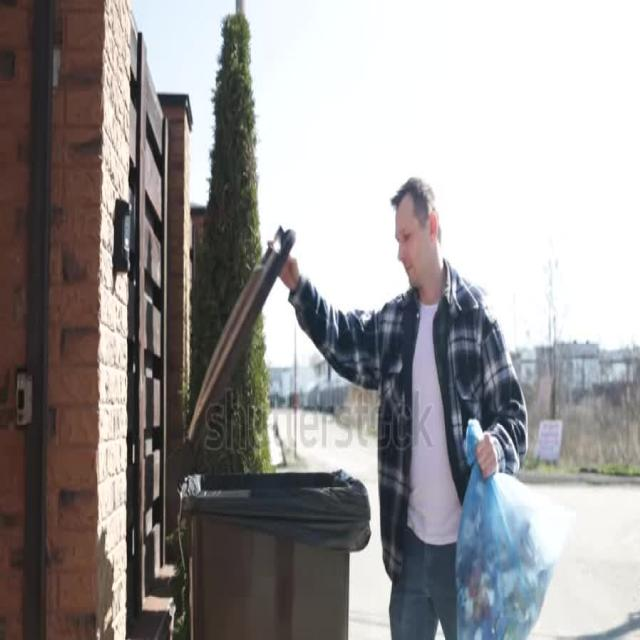human: (273, 142, 530, 640)
trash: (445, 413, 559, 640)
